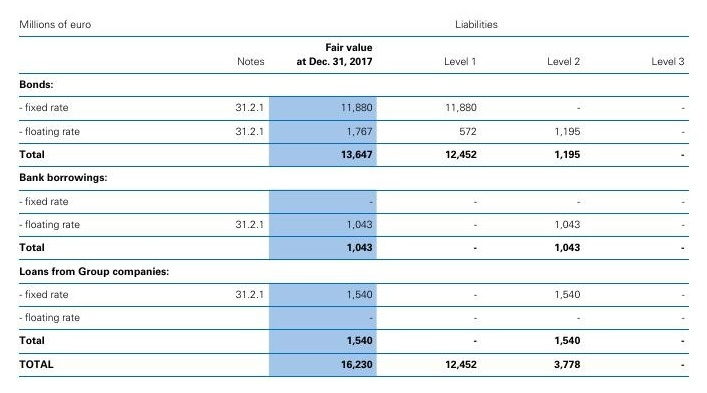table: (0, 0, 707, 393)
